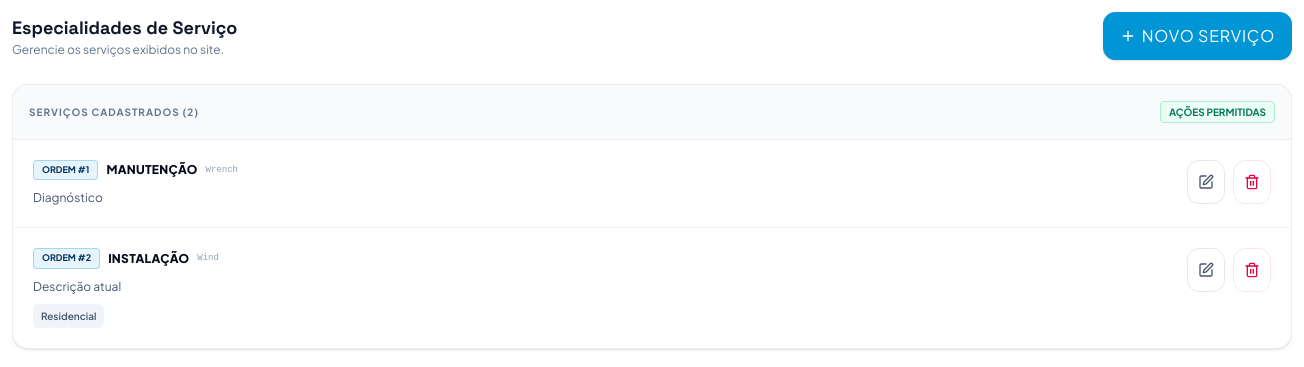
Test: gerenciamento administrativo de serviços › só exclui depois da confirmação
The width and height of the screenshot is (1304, 367).
Click the button named "Excluir Instalação" at coordinates (1252, 270), box [1233,248,1271,292]
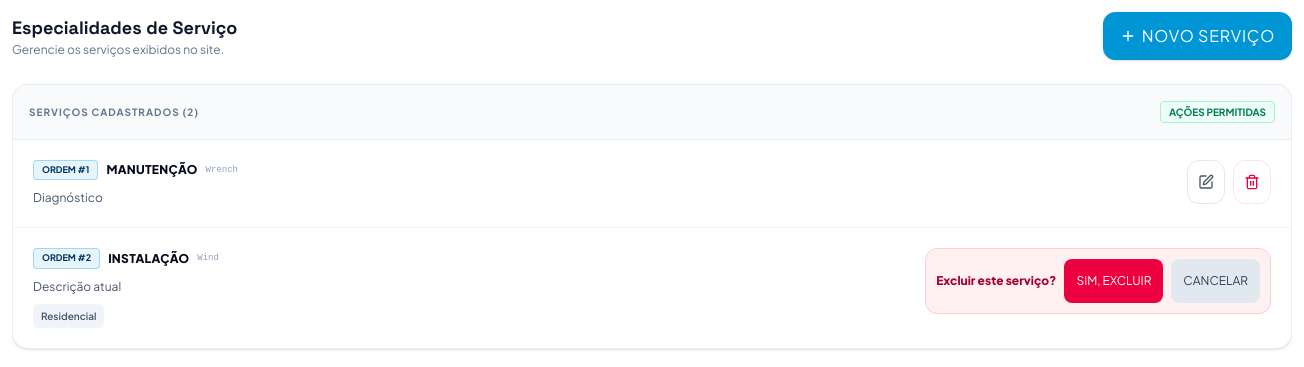
Click the button "Sim, excluir" at coordinates (1114, 282), box [1064,260,1163,304]
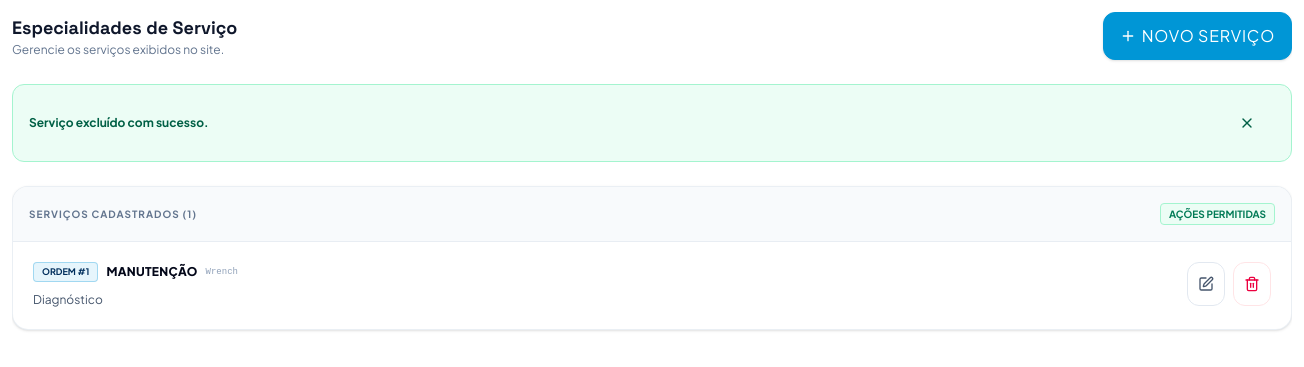
expect the text "Serviço excluído com sucesso." is shown: met, box [29,115,208,131]
expect the heading "Instalação" is gone: met
